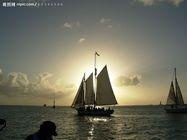fanchuan: (65, 47, 121, 119), (160, 68, 187, 115)
